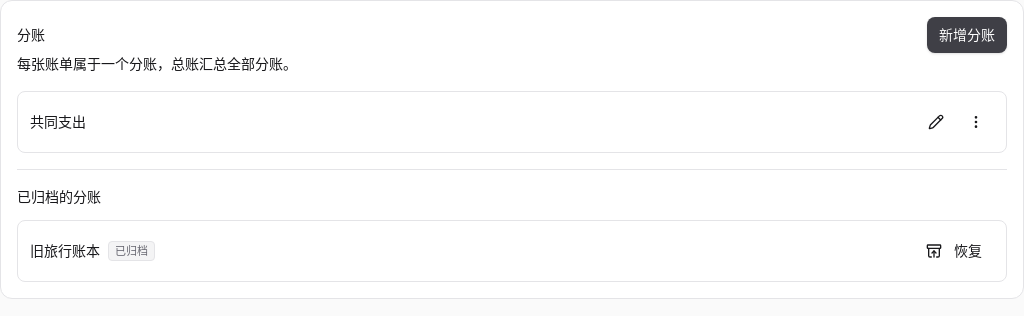
Test case: 设置 book list data range › renames a book in its own row and writes it without a dialog
Step 1. Click the button named "重命名 共同支出" → click(936, 122), box [918,104,954,140]
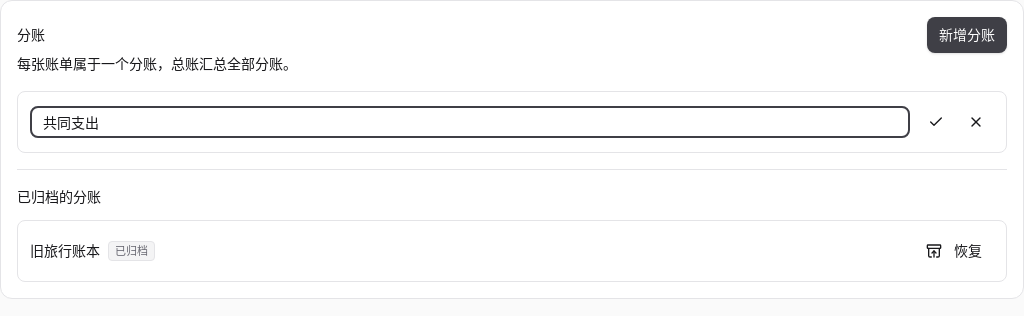
Step 2. Replace the text in the field named "重命名 共同支出" with "日常开销" → (470, 122), box [30,106,910,138]
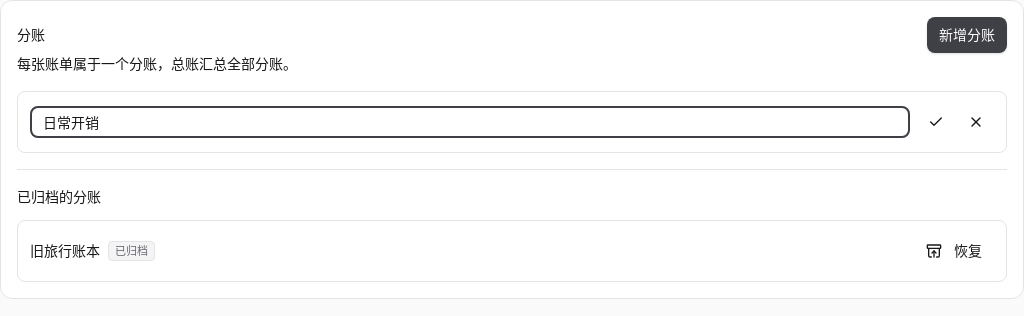
Step 3. Press Enter in the field named "重命名 共同支出", box [30,106,910,138]
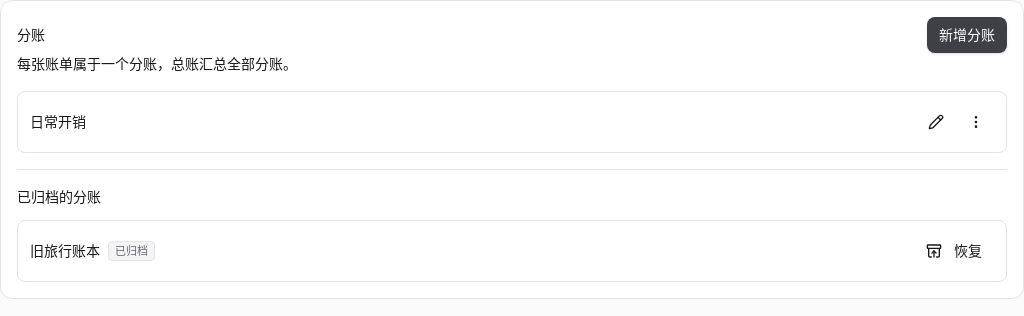
Expected: the text "日常开销" is shown, [30,113,86,130]
